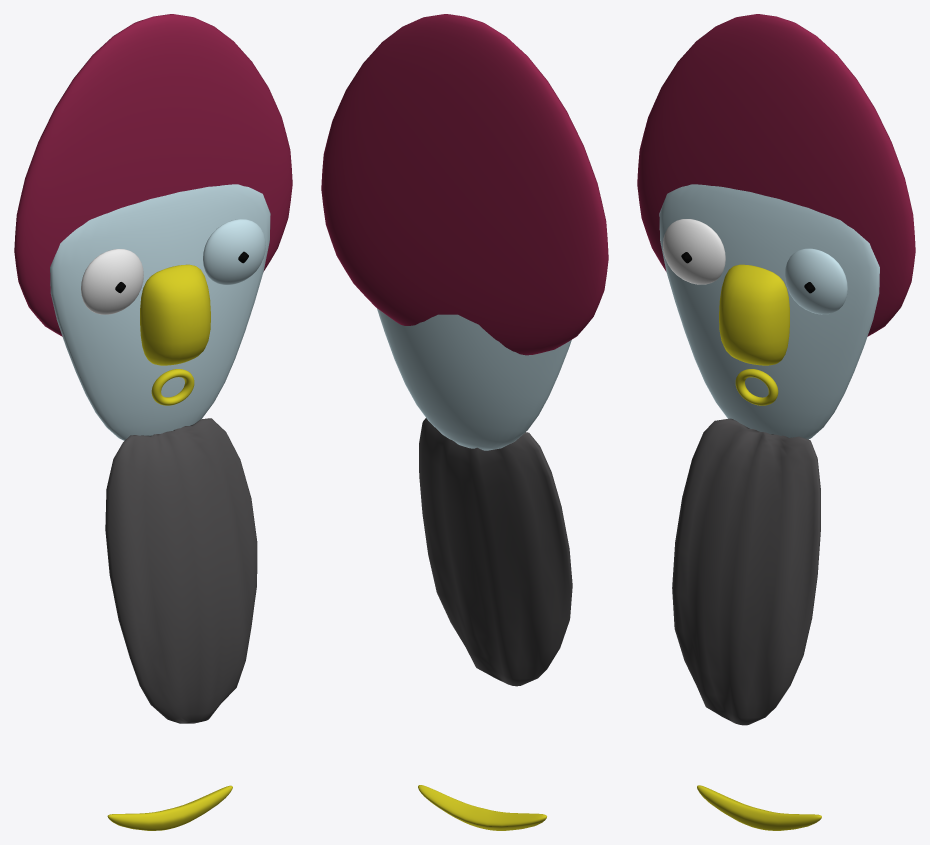
The model's file is ExportedBlenderFBXFile.fbx.
3 renders of one model, left to right at view 1: azimuth 30°, elevation 25°; view 2: azimuth 150°, elevation 25°; view 3: azimuth 330°, elevation 25°, orthographic. The views are drawn at different scales.
Parts seen in each view (by area): view 1: Sphere_007, Sphere_010, Sphere, Sphere_001, Sphere_002, eyelidL, Sphere_004, Torus; view 2: Sphere_007, Sphere_010, Sphere, Sphere_004; view 3: Sphere_007, Sphere_010, Sphere, Sphere_001, eyelidL, Sphere_002, Sphere_004, Torus.
Boxes of the visible parts, x1,y1,x2,y2 form: Sphere_007: (14, 14, 292, 336); Sphere_010: (105, 418, 257, 723); Sphere: (50, 184, 270, 440); Sphere_001: (140, 264, 210, 365); Sphere_002: (81, 249, 143, 314); eyelidL: (203, 219, 265, 284); Sphere_004: (107, 785, 232, 830); Torus: (151, 369, 194, 405); Sphere_007: (321, 14, 608, 355); Sphere_010: (419, 418, 572, 686); Sphere: (377, 308, 571, 450); Sphere_004: (418, 785, 546, 830); Sphere_007: (637, 14, 915, 336); Sphere_010: (672, 418, 820, 725); Sphere: (659, 184, 879, 439); Sphere_001: (719, 264, 789, 365); eyelidL: (785, 248, 847, 314); Sphere_002: (663, 219, 725, 284); Sphere_004: (697, 785, 821, 830); Torus: (735, 369, 778, 405).
Size of the model in its own units: 3.82 by 10.49 by 1.35.
